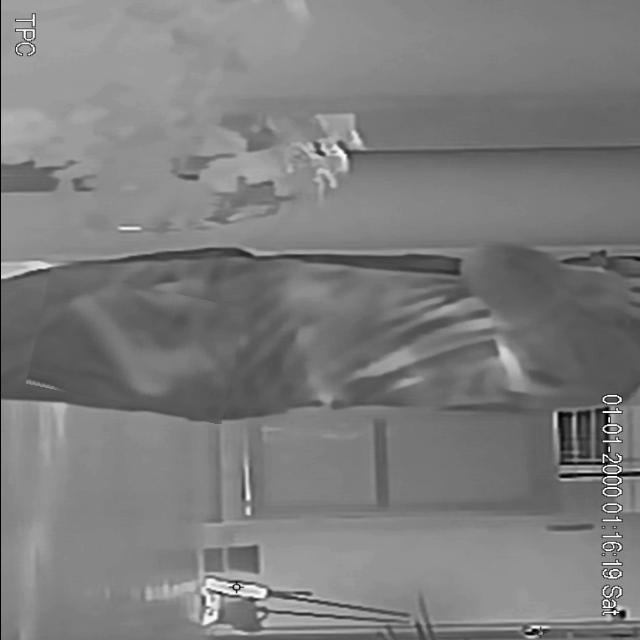Weapon: (30, 276, 240, 414)
